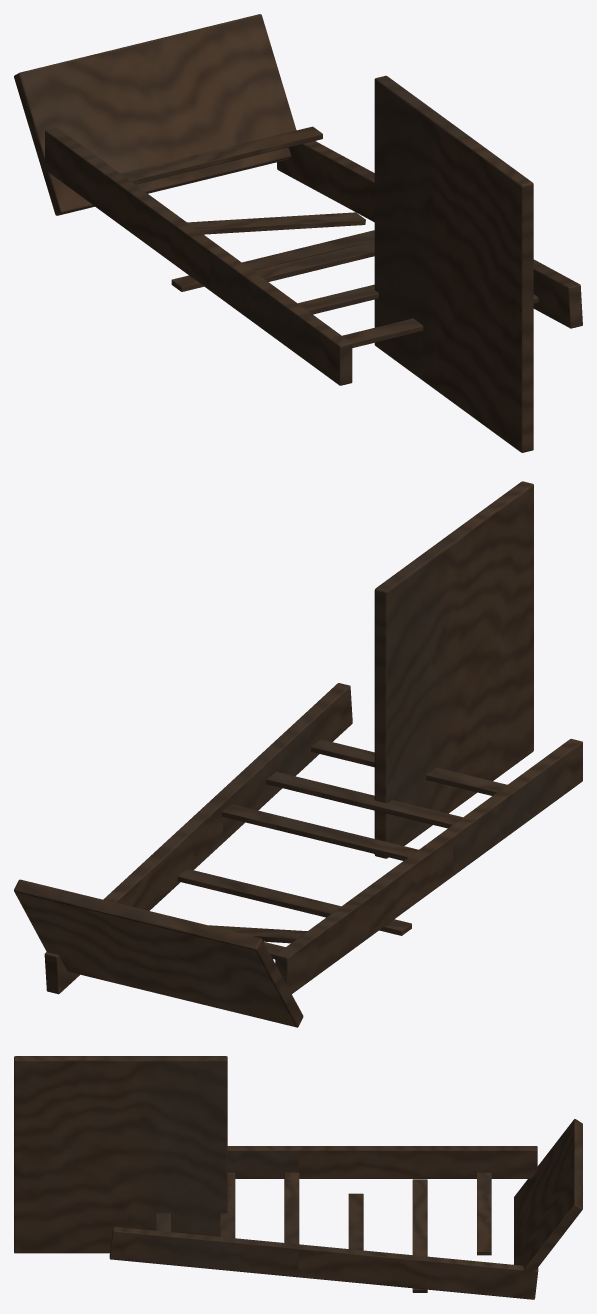
Rendered from BR09_broken_bed_frame_v1.glb.
3 renders of one model, top to bottom at view 1: azimuth 30°, elevation 25°; view 2: azimuth 150°, elevation 25°; view 3: azimuth 270°, elevation 25°, orthographic. The views are drawn at different scales.
Parts seen in each view (by area): view 1: BR09_broken_bed_frame_v1; view 2: BR09_broken_bed_frame_v1; view 3: BR09_broken_bed_frame_v1.
Part boxes in pixels (x1,y1,x2,y2): BR09_broken_bed_frame_v1: (14,14,582,452); BR09_broken_bed_frame_v1: (14,481,582,1027); BR09_broken_bed_frame_v1: (14,1056,582,1299).
Bounding box in the file's own units: 0.7139 × 0.773 × 2.
1 material, 1 textured.
